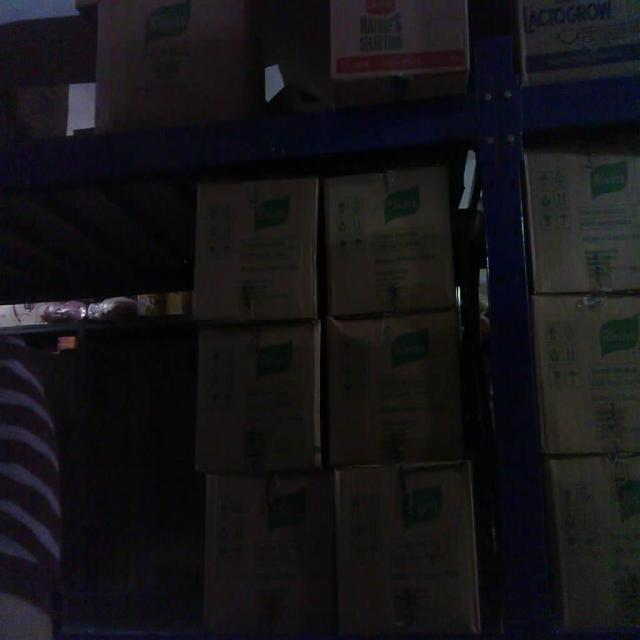box: (333, 463, 476, 640), (205, 468, 334, 640), (324, 318, 469, 464), (322, 168, 460, 314), (190, 174, 322, 324), (195, 320, 323, 471), (521, 147, 640, 298), (533, 292, 638, 457), (98, 2, 248, 116), (549, 454, 637, 640), (329, 0, 472, 84)
